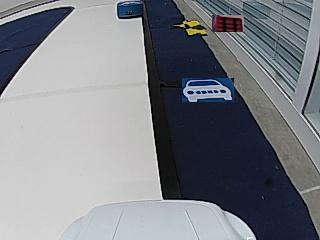prop: (117, 1, 142, 19)
